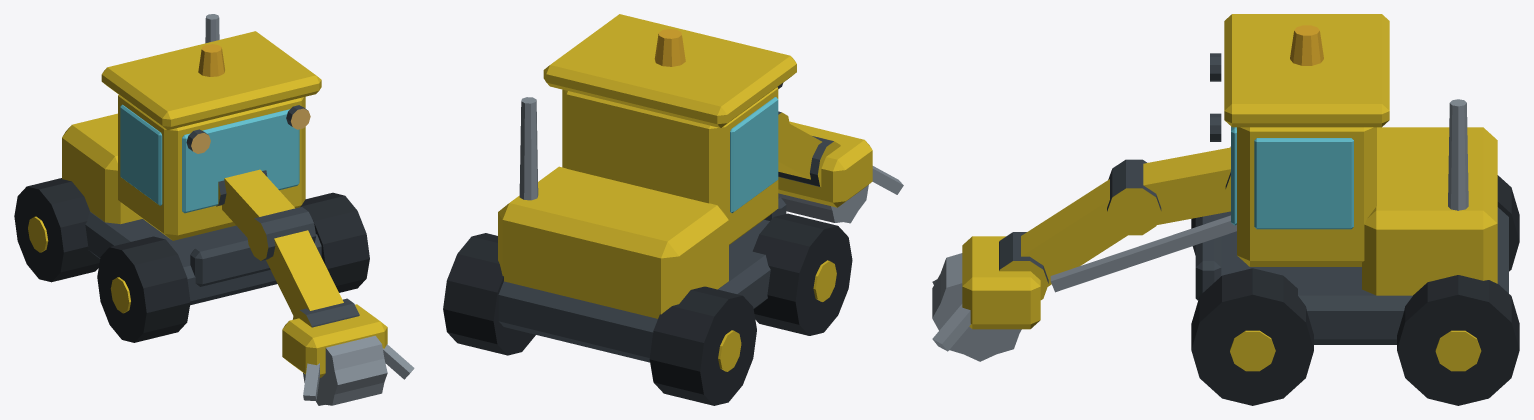
Rendered from machine_full.glb.
3 renders of one model, left to right at view 1: azimuth 30°, elevation 25°; view 2: azimuth 150°, elevation 25°; view 3: azimuth 270°, elevation 25°, orthographic. The views are drawn at different scales.
Parts seen in each view (by area): view 1: part_001_machine_full; view 2: part_001_machine_full; view 3: part_001_machine_full.
Part boxes in pixels (x1,y1,x2,y2): part_001_machine_full: [14, 14, 414, 405]; part_001_machine_full: [443, 14, 903, 405]; part_001_machine_full: [932, 14, 1519, 405].
Size of the model in its own units: 2.28 by 2.44 by 4.12.
